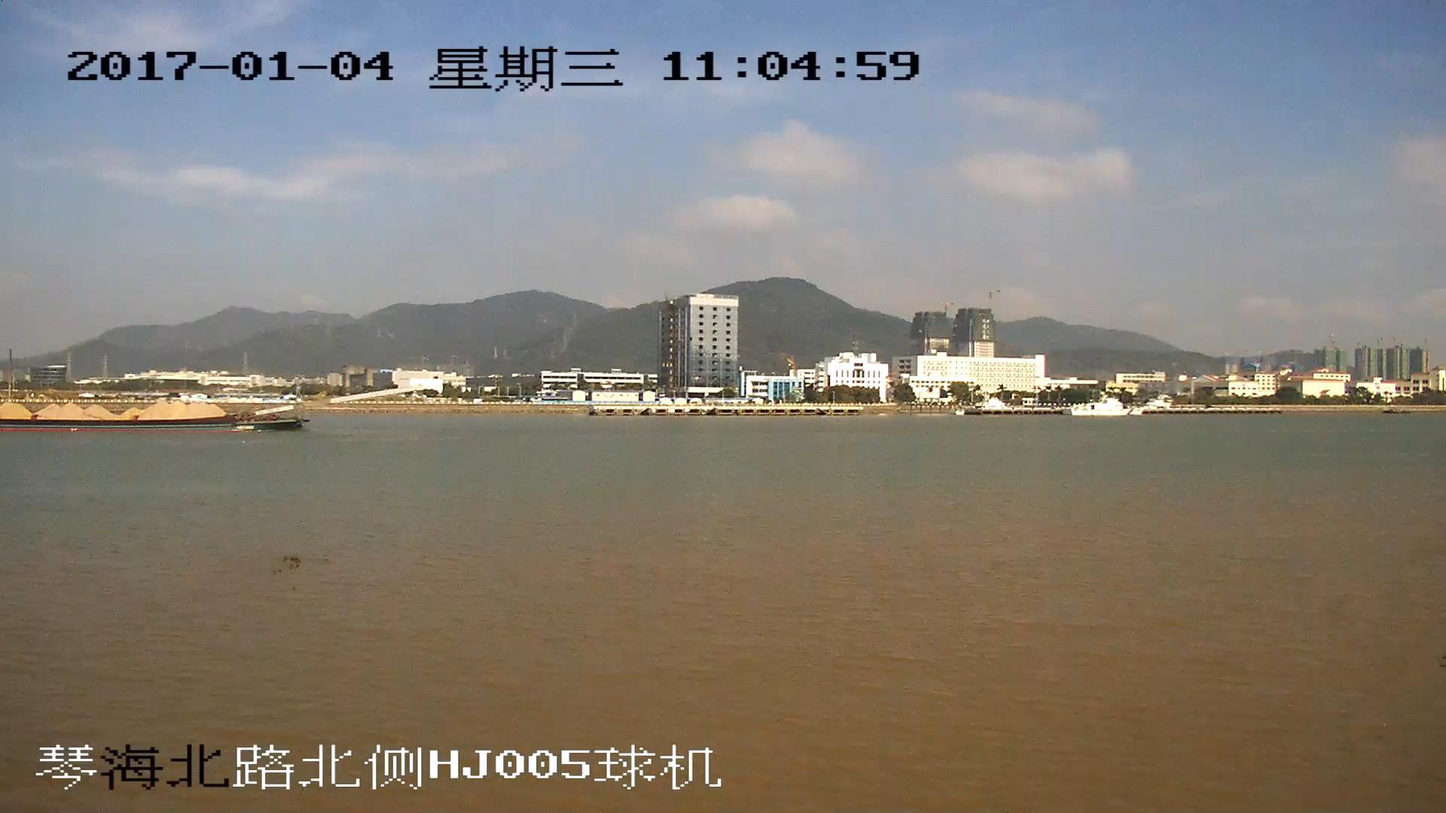ore carrier: (0, 382, 423, 433)
